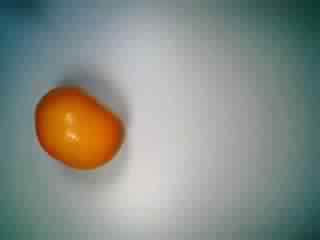orange: (32, 82, 127, 176)
